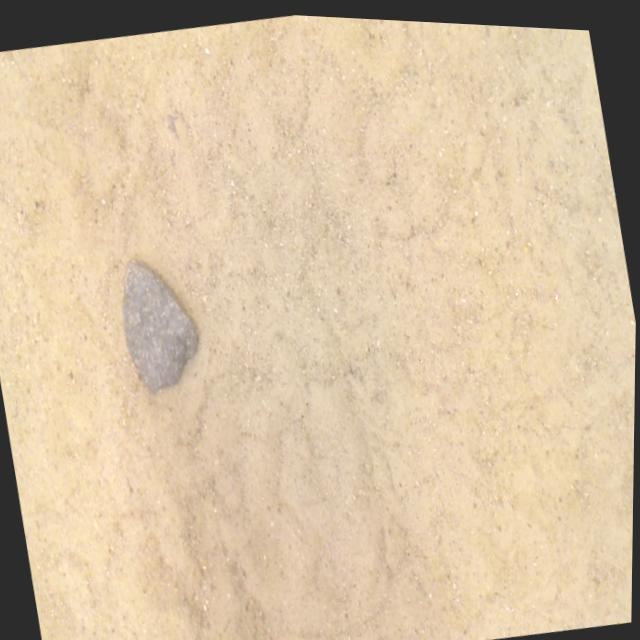rock: (123, 258, 199, 390)
